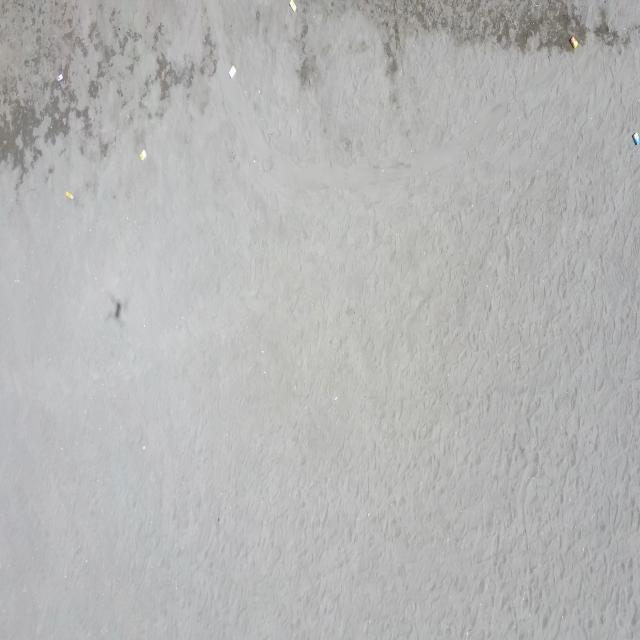retort-pouch: (228, 64, 237, 80), (570, 34, 578, 50), (632, 132, 640, 148), (289, 0, 298, 14), (140, 146, 147, 161), (65, 190, 74, 201), (57, 72, 63, 84)
